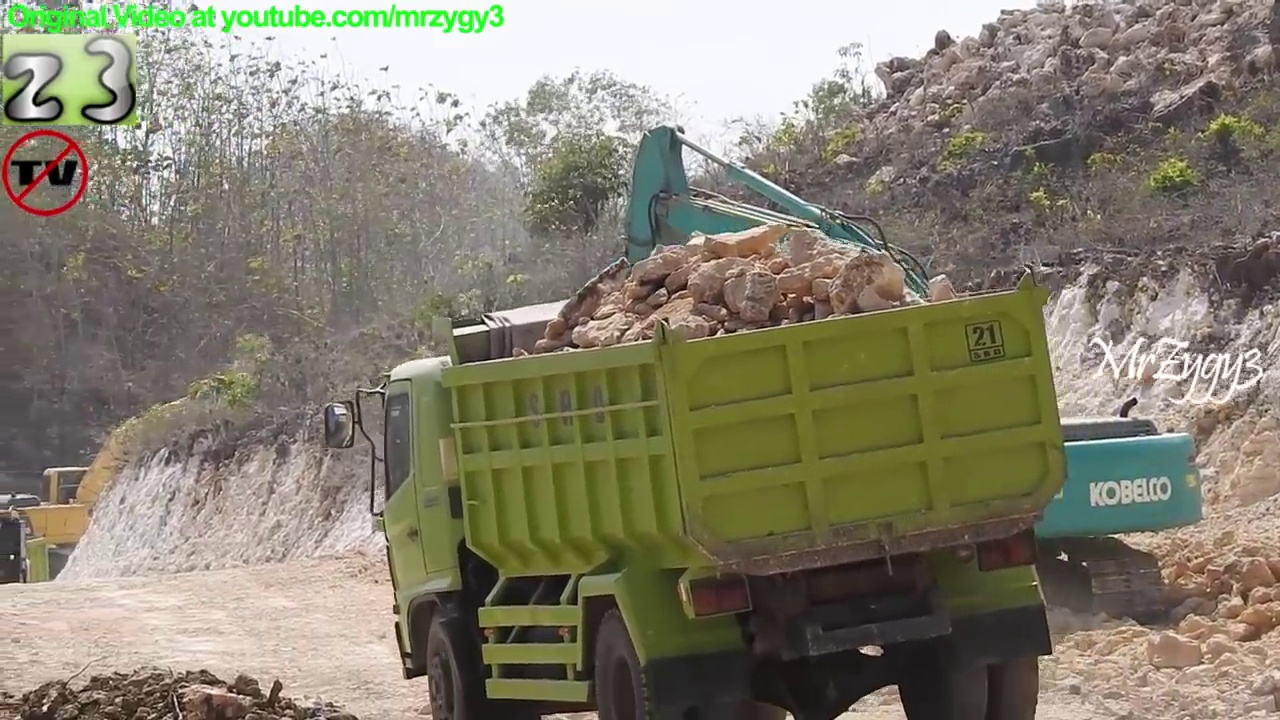excavator: (572, 120, 1215, 628), (1, 375, 255, 586)
truck: (319, 262, 1074, 720), (1, 508, 57, 605)
